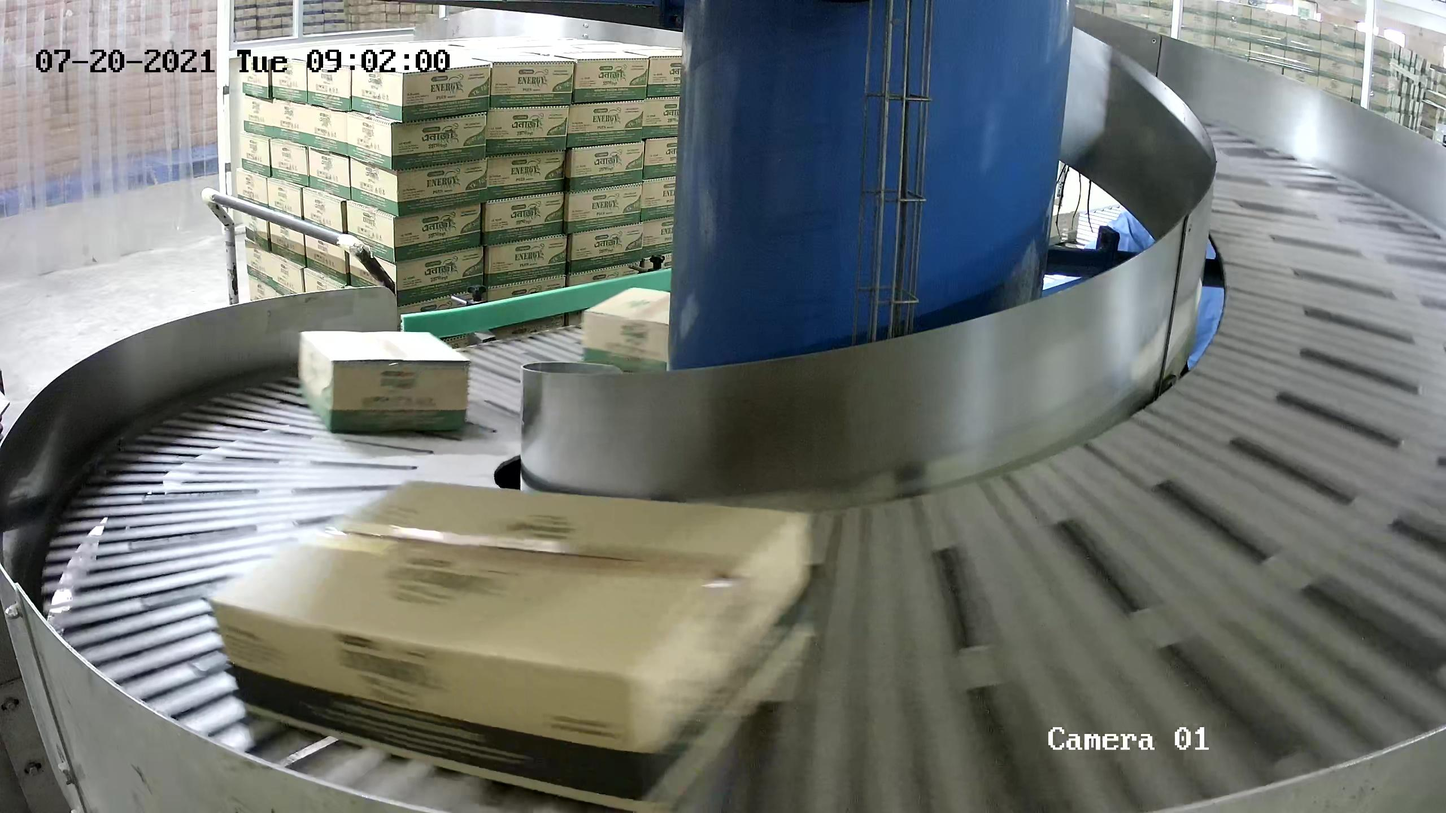Box: (204, 476, 825, 813), (297, 330, 471, 435), (580, 286, 713, 385)
